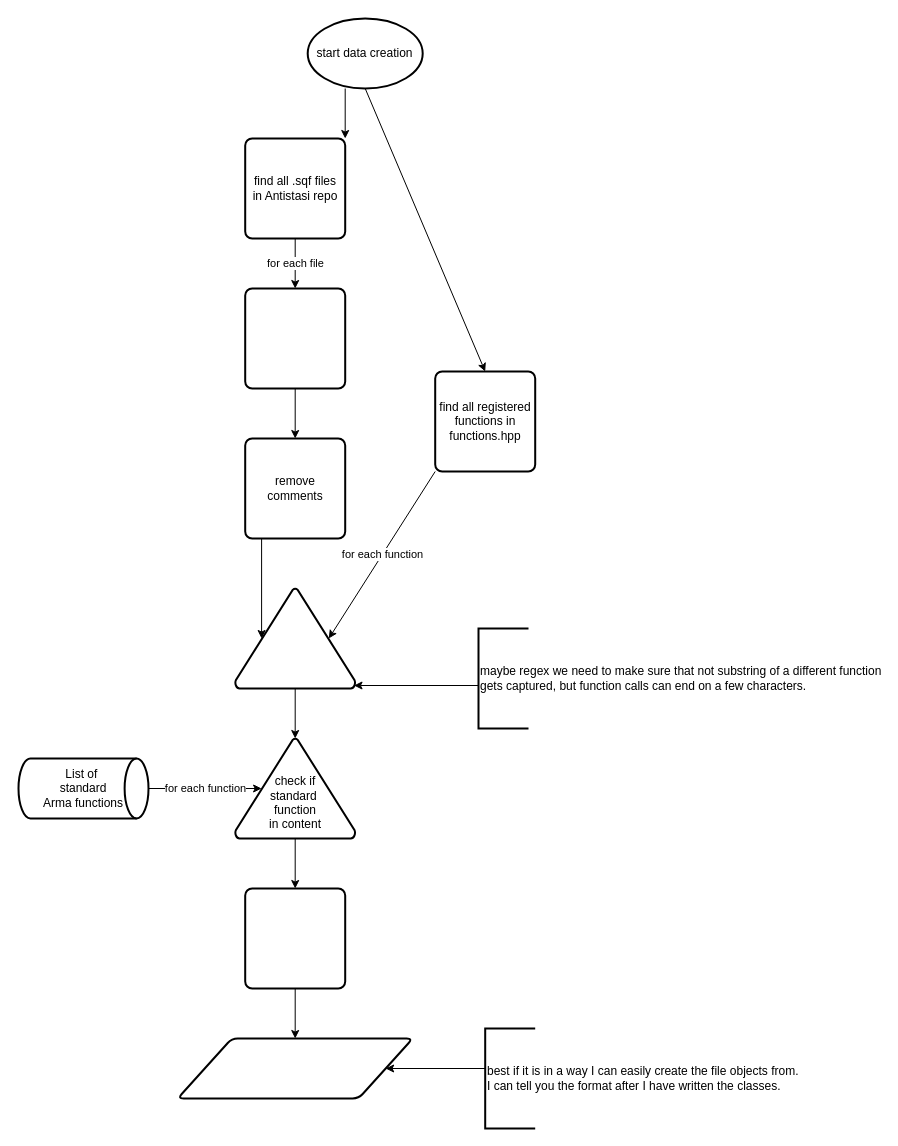
Some shapes in this 898 by 1146 pixel diagram are drawn without their labels. Here are the shapes that lost their labels. From the top down, the box of each, then its label:
(244, 287, 346, 389): read in file content
(234, 587, 356, 689): check if registered function in content
(244, 887, 346, 989): convert to set to remove duplicates
(176, 1037, 413, 1099): save as json maybe in multiple formats regarding column content
